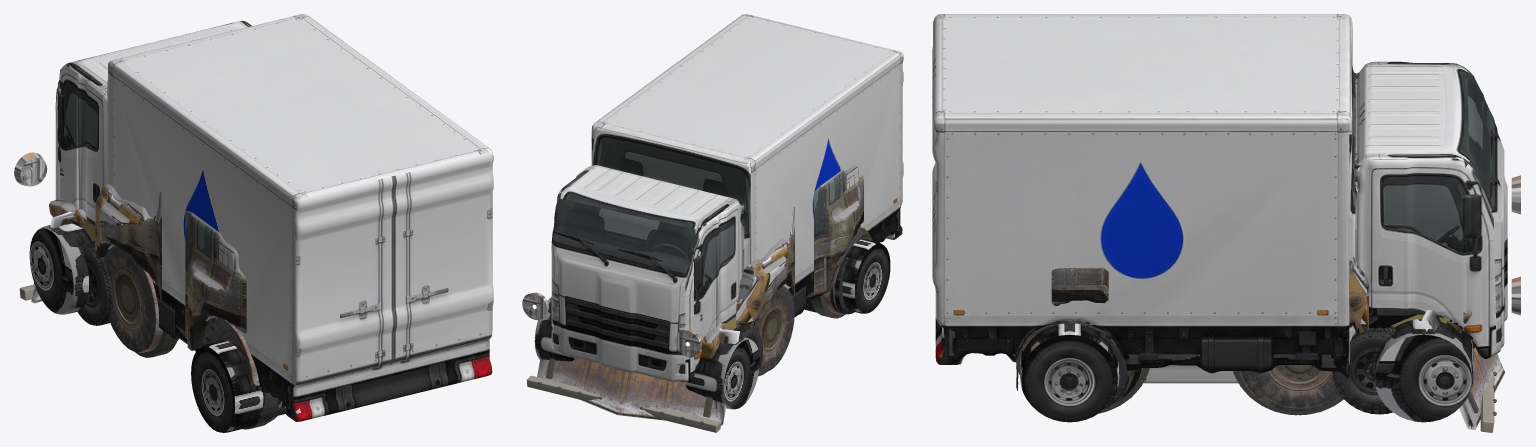
The model's file is trucks-2.glb.
3 views of the same model, side by side, from view 1: azimuth 30°, elevation 25°; view 2: azimuth 150°, elevation 25°; view 3: azimuth 270°, elevation 25° (orthographic). The views are drawn at different scales.
Visible parts, largest first — view 1: vane-truck:body, dozer:body, vane-truck:wheel-rear-left, vane-truck:wheel-front-left, dozer:wheel-front-left, vane-escort:wheel-front-left, dozer:wheel-rear-left, vane-truck:headlamp-2; view 2: vane-truck:body, dozer:body, dozer:blade:curved-welded-face, vane-truck:wheel-front-left, vane-truck:wheel-rear-left, dozer:wheel-front-left, dozer:blade:bolted-cutting-edge, vane-truck:wheel-front-right, dozer:wheel-rear-left, vane-truck:headlamp-1, vane-truck:headlamp-2, vane-escort:wheel-rear-left (+1 smaller); view 3: vane-truck:body, vane-truck:wheel-front-right, vane-truck:wheel-rear-right, dozer:wheel-front-right, dozer:body, vane-escort:wheel-front-right, dozer:blade:curved-welded-face, ambulance:body, dozer:blade:bolted-cutting-edge, dozer:wheel-rear-right, dozer:tread-front-right, vane-escort:wheel-rear-right.
Boxes of the visible parts, <box> form: vane-truck:body: <box>55,14,493,421</box>; dozer:body: <box>49,184,246,350</box>; vane-truck:wheel-rear-left: <box>191,340,282,432</box>; vane-truck:wheel-front-left: <box>29,223,91,314</box>; dozer:wheel-front-left: <box>103,245,178,352</box>; vane-escort:wheel-front-left: <box>78,240,112,325</box>; dozer:wheel-rear-left: <box>199,316,259,385</box>; vane-truck:headlamp-2: <box>14,152,47,186</box>; vane-truck:body: <box>551,14,903,381</box>; dozer:body: <box>701,165,863,358</box>; dozer:blade:curved-welded-face: <box>537,298,739,425</box>; vane-truck:wheel-front-left: <box>685,336,759,409</box>; vane-truck:wheel-rear-left: <box>842,239,890,313</box>; dozer:wheel-front-left: <box>754,285,794,372</box>; dozer:blade:bolted-cutting-edge: <box>526,375,720,432</box>; vane-truck:wheel-front-right: <box>534,297,574,361</box>; dozer:wheel-rear-left: <box>823,226,871,314</box>; vane-truck:headlamp-1: <box>522,292,548,320</box>; vane-truck:headlamp-2: <box>675,330,701,357</box>; vane-escort:wheel-rear-left: <box>835,254,854,314</box>; vane-truck:body: <box>932,14,1507,390</box>; vane-truck:wheel-front-right: <box>1374,319,1473,422</box>; vane-truck:wheel-rear-right: <box>1020,323,1119,422</box>; dozer:wheel-front-right: <box>1239,365,1340,411</box>; dozer:body: <box>1051,257,1471,333</box>; vane-escort:wheel-front-right: <box>1333,326,1395,414</box>; dozer:blade:curved-welded-face: <box>1422,310,1505,429</box>; ambulance:body: <box>1007,340,1472,383</box>; dozer:blade:bolted-cutting-edge: <box>1480,374,1494,432</box>; dozer:wheel-rear-right: <box>1023,320,1142,406</box>; dozer:tread-front-right: <box>1233,371,1343,415</box>; vane-escort:wheel-rear-right: <box>1097,330,1129,409</box>.
Bounding box in the file's own units: 3.14 × 3.62 × 6.24.
28 materials, 18 textured.
